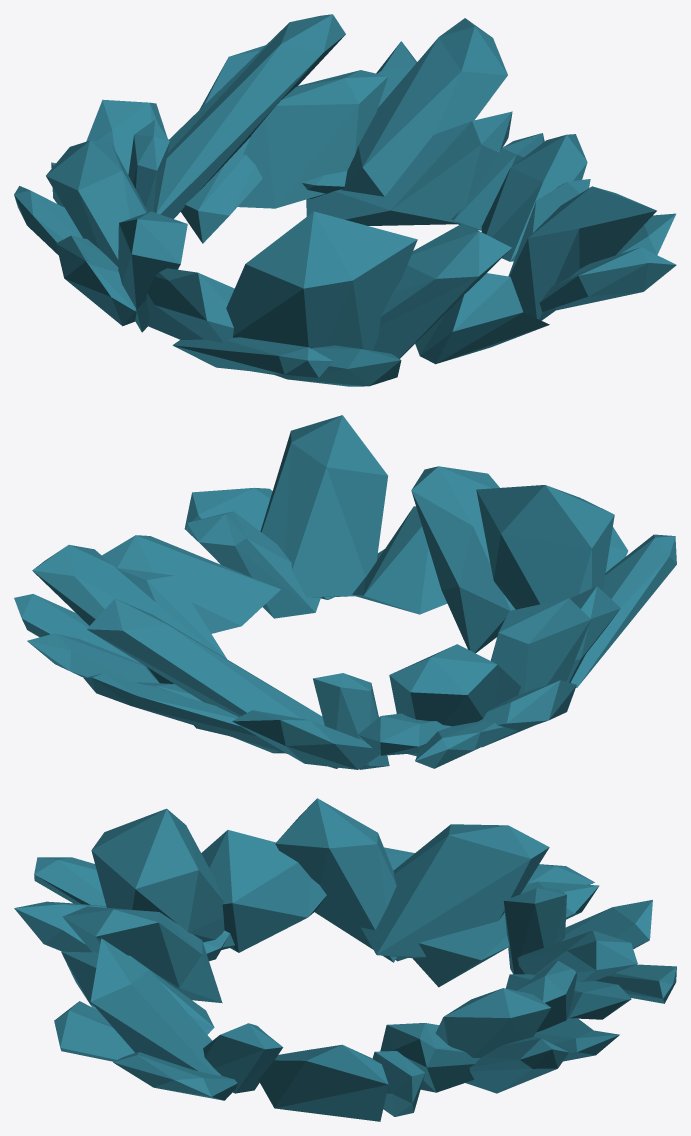
The model's file is Eisloch_fur_Wind.glb.
3 views of the same model, one above another, from view 1: azimuth 30°, elevation 25°; view 2: azimuth 150°, elevation 25°; view 3: azimuth 270°, elevation 25° (orthographic). The views are drawn at different scales.
Visible parts, largest first — view 1: Ice Kristall 2.002; view 2: Ice Kristall 2.002; view 3: Ice Kristall 2.002.
Boxes of the visible parts, x1,y1,x2,y2 form: Ice Kristall 2.002: (14,14,676,386); Ice Kristall 2.002: (14,415,676,769); Ice Kristall 2.002: (14,798,676,1121).
Size of the model in its own units: 3.88 by 1.37 by 4.48.
